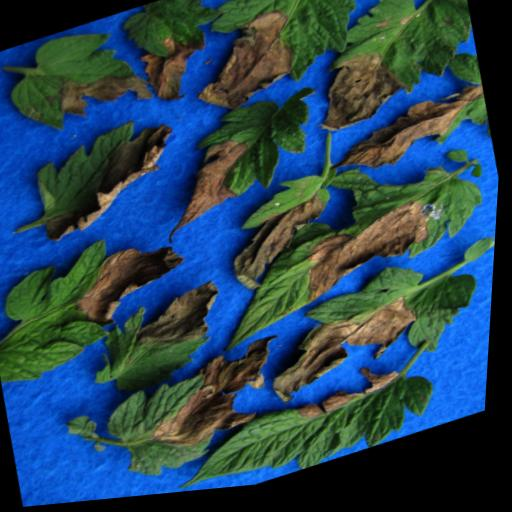Late Blight: (216, 168, 499, 348), (65, 335, 302, 503), (255, 252, 496, 412), (185, 357, 457, 496), (0, 221, 201, 397), (11, 108, 196, 257), (299, 0, 486, 144), (166, 86, 331, 233), (88, 268, 245, 417), (211, 154, 357, 304), (0, 15, 159, 147), (122, 0, 224, 117)
